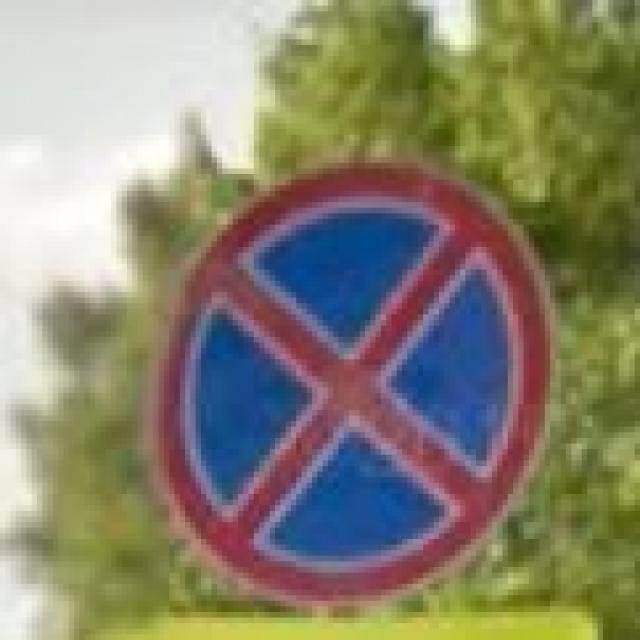traffic_sign: (142, 152, 560, 618)
